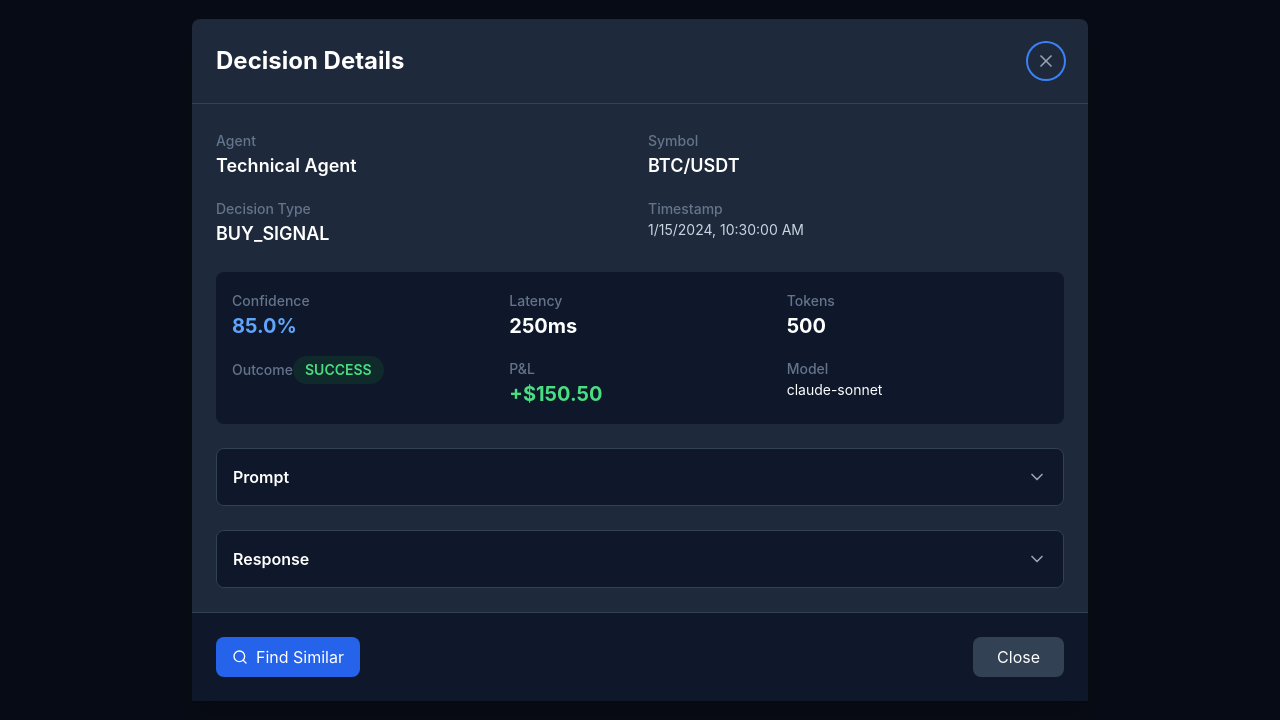
Test: DecisionDetail › Expand/Collapse Sections › prompt section collapses when clicked again
Click the button with aria-label "expand prompt": (261, 477) [217,449,1063,505]
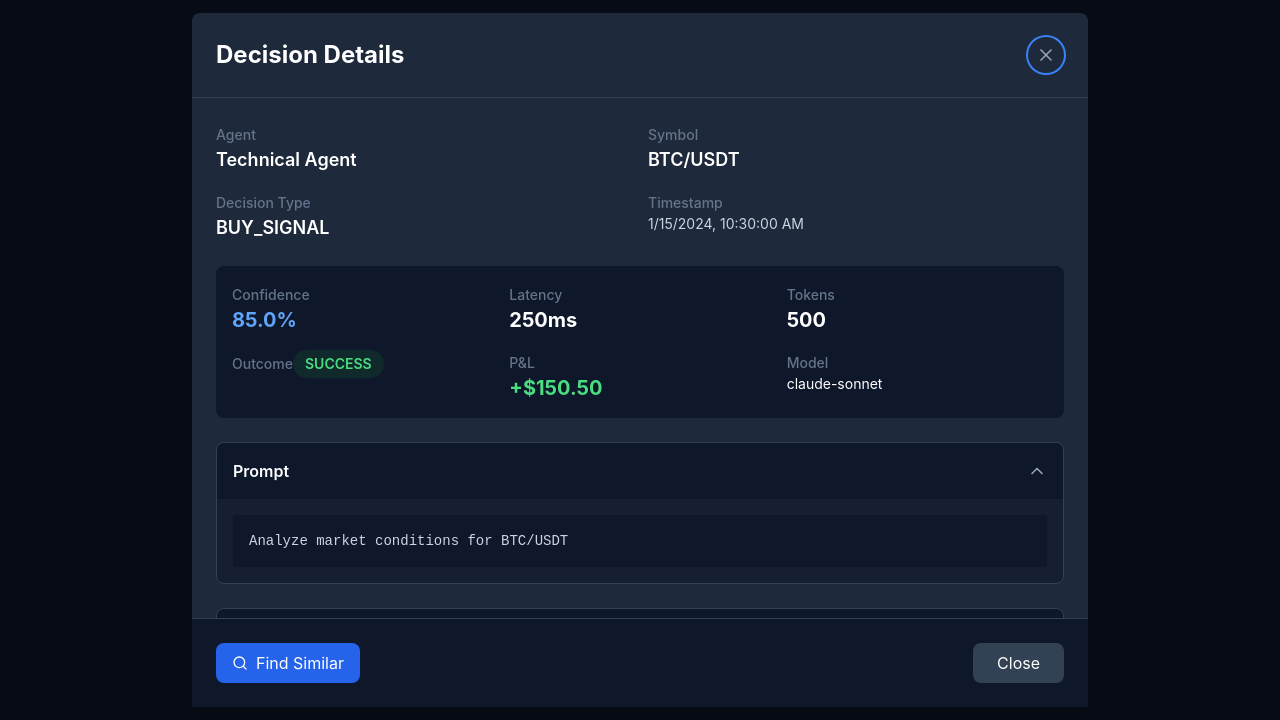
Result: the button named "expand prompt" is expanded
Click the button named "expand prompt": (261, 471) [217,443,1063,499]
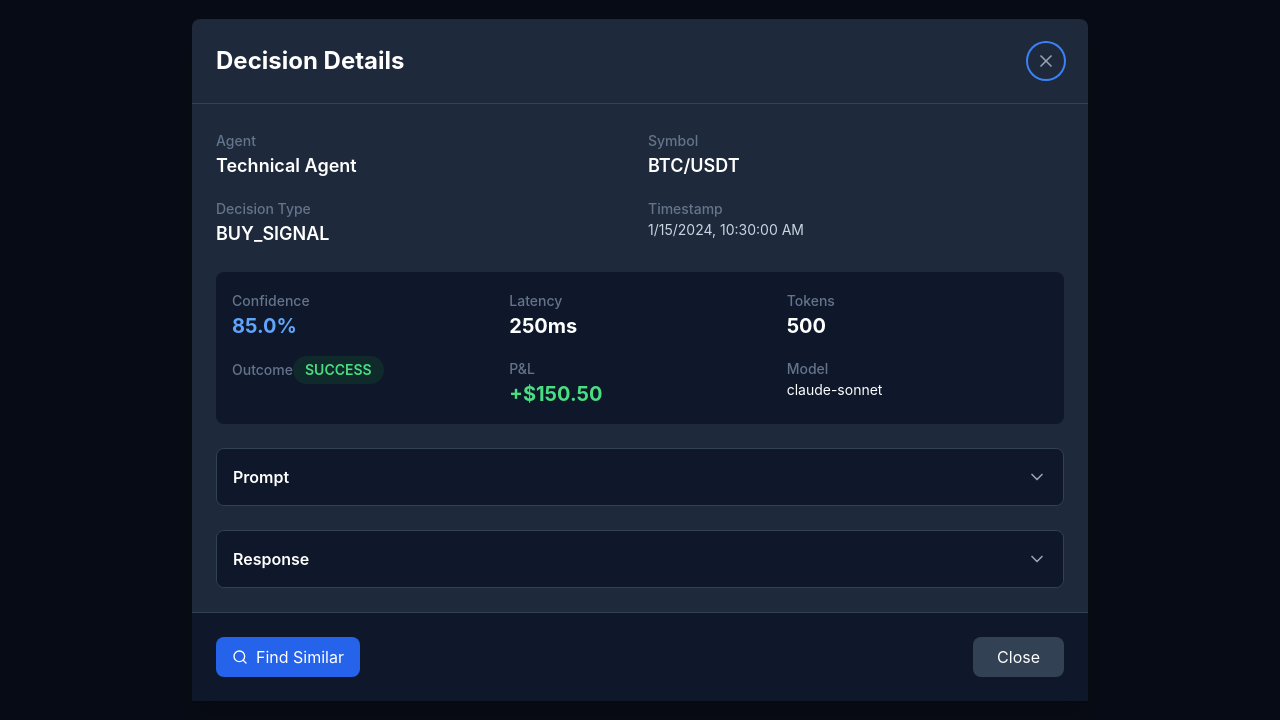
Result: the button with aria-label "expand prompt" is collapsed at [217,449,1063,505]
